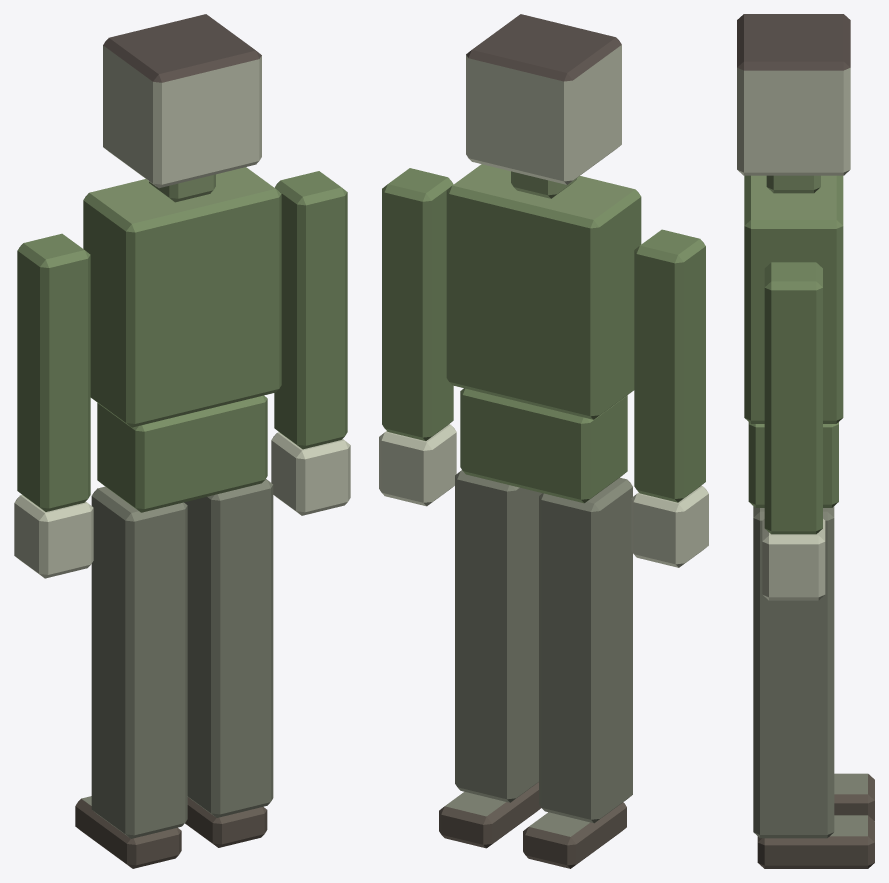
The model's file is enemy_common.glb.
The picture shows the model from 3 angles, left to right: view 1: azimuth 30°, elevation 25°; view 2: azimuth 150°, elevation 25°; view 3: azimuth 270°, elevation 25°; orthographic projection. The views are drawn at different scales.
Visible parts, largest first — view 1: EnemyCommon; view 2: EnemyCommon; view 3: EnemyCommon.
Boxes of the visible parts, bbox=[...] form: EnemyCommon: bbox=[14, 14, 350, 868]; EnemyCommon: bbox=[379, 14, 708, 868]; EnemyCommon: bbox=[737, 14, 874, 868].
Bounding box in the file's own units: 0.8 × 1.96 × 0.306.
